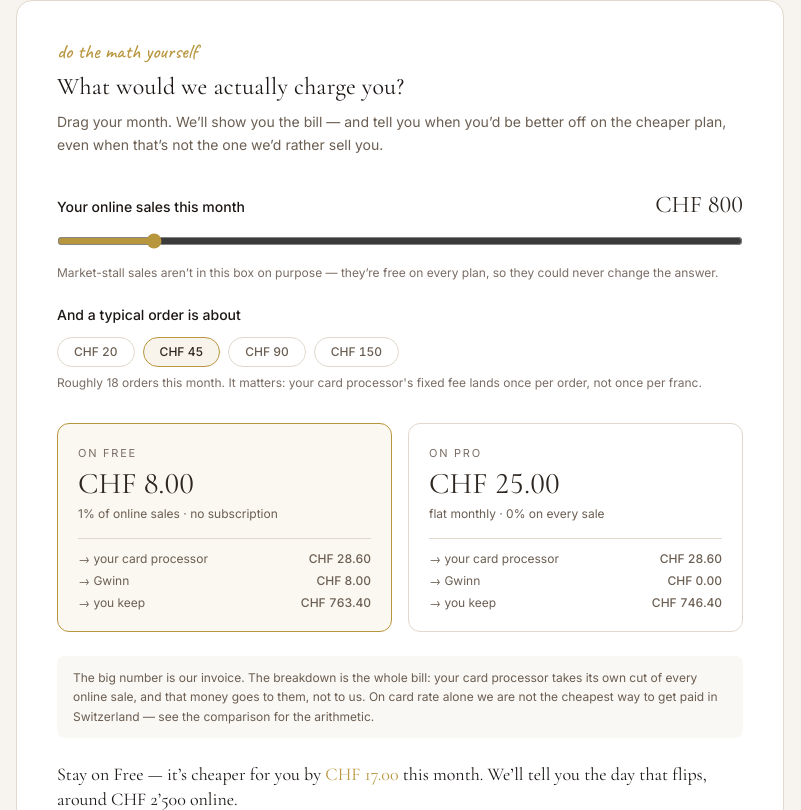
Test: FeeCalculator — the whole bill, not just our slice › asks for the basket size rather than assuming one
Set the slider to "2000" at (288, 241), box 57,233 -> 743,249
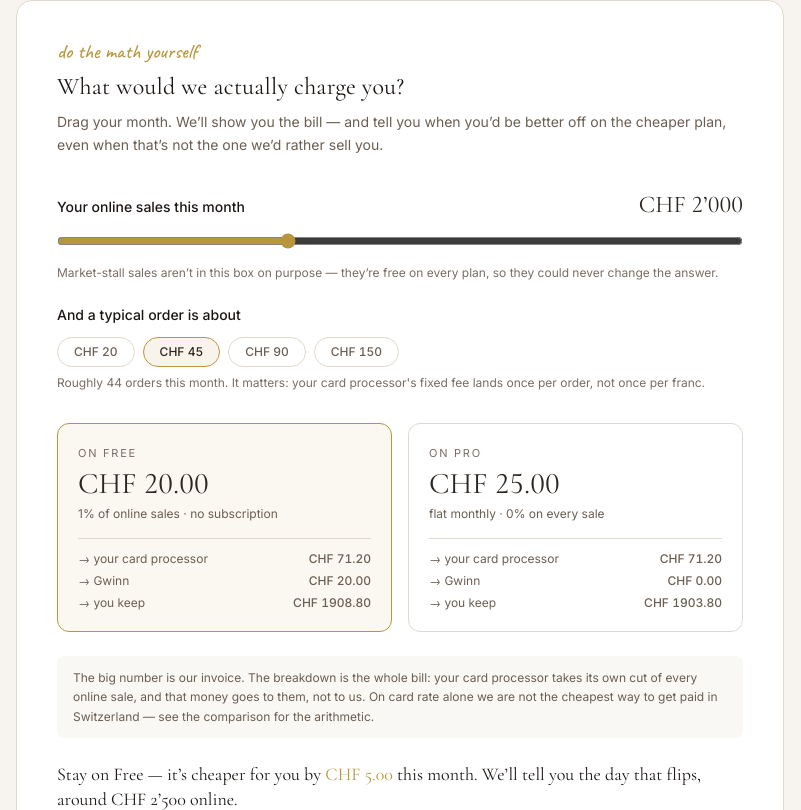
Result: the text "CHF 71.20" below "1% of online sales · no subscription" is shown at 309,551 -> 371,566
Click the radio button labelled "CHF 150" at (356, 352), box 314,336 -> 399,366
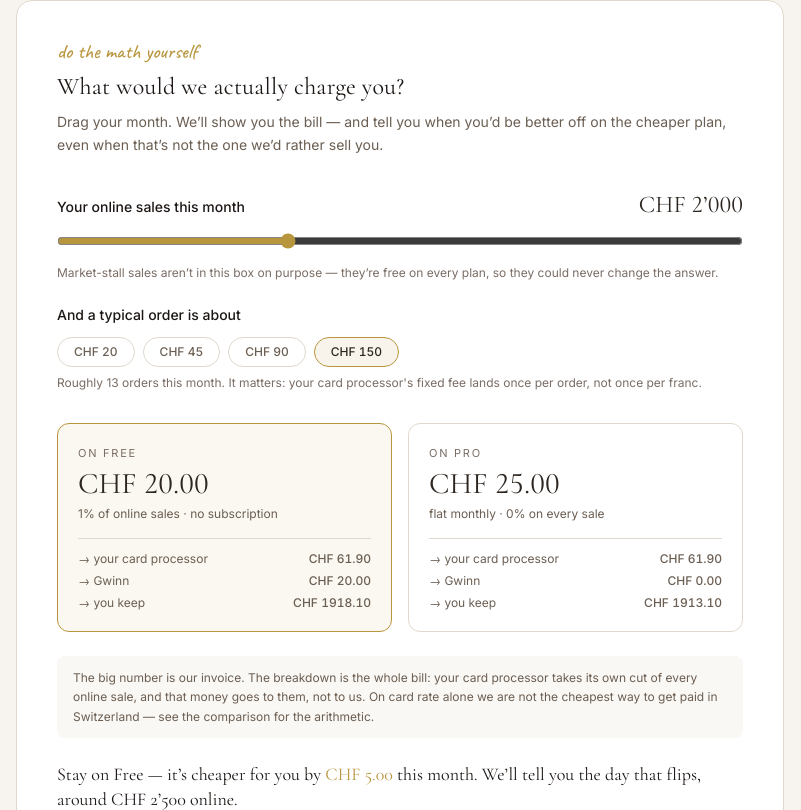
Result: the text "CHF 61.90" below "1% of online sales · no subscription" is shown at 309,551 -> 371,566
